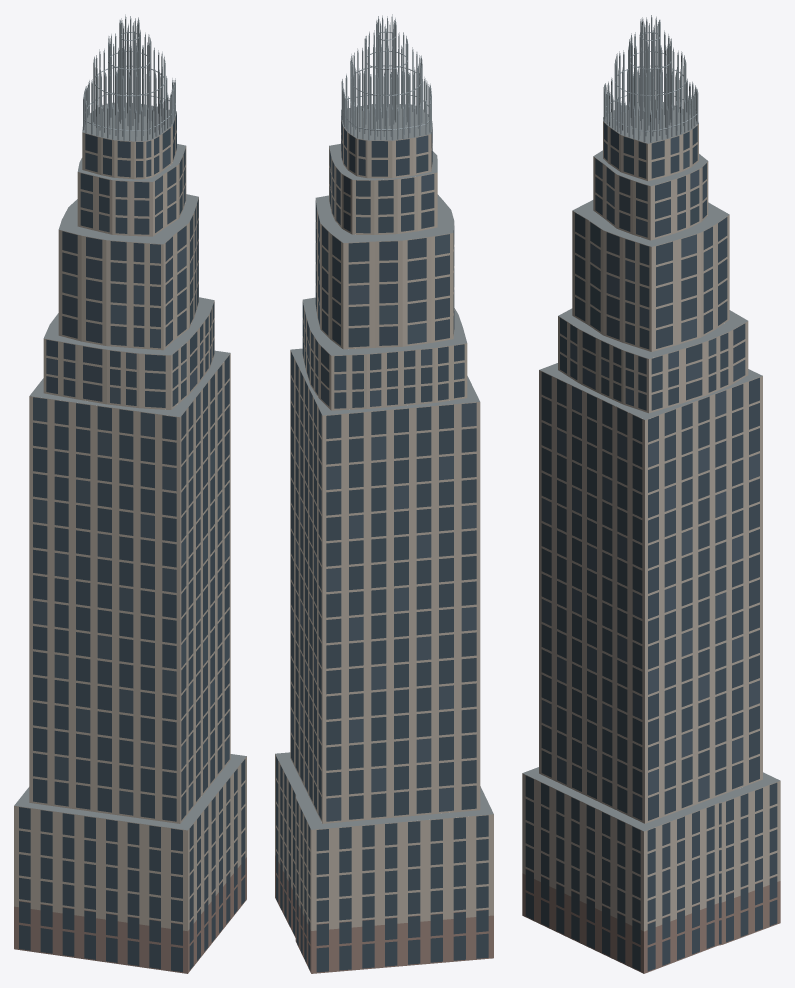
File: bank-of-america-corporate-center-far.glb
3 renders of one model, left to right at view 1: azimuth 30°, elevation 25°; view 2: azimuth 150°, elevation 25°; view 3: azimuth 270°, elevation 25°, orthographic.
Visible parts, largest first — view 1: bank-of-america-corporate-center-0-glass, bank-of-america-corporate-center-0-stone, bank-of-america-corporate-center-0-glow, bank-of-america-corporate-center-0-roof, bank-of-america-corporate-center-0-light, bank-of-america-corporate-center-0-granite; view 2: bank-of-america-corporate-center-0-glass, bank-of-america-corporate-center-0-stone, bank-of-america-corporate-center-0-glow, bank-of-america-corporate-center-0-roof, bank-of-america-corporate-center-0-light, bank-of-america-corporate-center-0-granite; view 3: bank-of-america-corporate-center-0-glass, bank-of-america-corporate-center-0-stone, bank-of-america-corporate-center-0-glow, bank-of-america-corporate-center-0-roof, bank-of-america-corporate-center-0-light, bank-of-america-corporate-center-0-granite.
Part boxes in pixels (x1,y1,x2,y2): bank-of-america-corporate-center-0-glass: (19,113,245,972); bank-of-america-corporate-center-0-stone: (14,114,246,931); bank-of-america-corporate-center-0-glow: (33,140,229,815); bank-of-america-corporate-center-0-roof: (14,102,246,830); bank-of-america-corporate-center-0-light: (83,14,175,141); bank-of-america-corporate-center-0-granite: (14,853,246,973); bank-of-america-corporate-center-0-glass: (276,116,488,972); bank-of-america-corporate-center-0-stone: (275,115,493,930); bank-of-america-corporate-center-0-glow: (291,122,476,821); bank-of-america-corporate-center-0-roof: (275,104,493,829); bank-of-america-corporate-center-0-light: (341,14,431,140); bank-of-america-corporate-center-0-granite: (275,851,493,973); bank-of-america-corporate-center-0-glass: (525,123,777,971); bank-of-america-corporate-center-0-stone: (522,121,780,931); bank-of-america-corporate-center-0-glow: (541,136,759,820); bank-of-america-corporate-center-0-roof: (522,100,780,831); bank-of-america-corporate-center-0-light: (603,15,698,142); bank-of-america-corporate-center-0-granite: (522,868,780,973).
Bounding box in the file's own units: 69.04 × 266 × 69.03.
